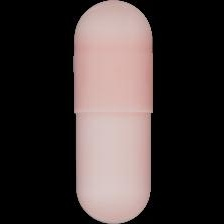61786-620: (0, 0, 224, 224)
